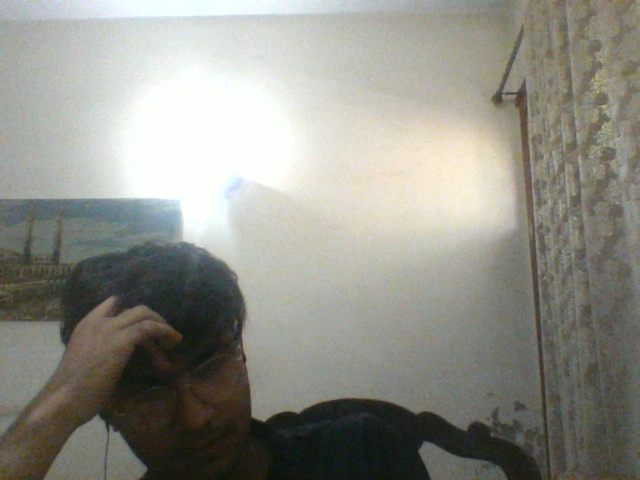neutral: (123, 349, 255, 467)
